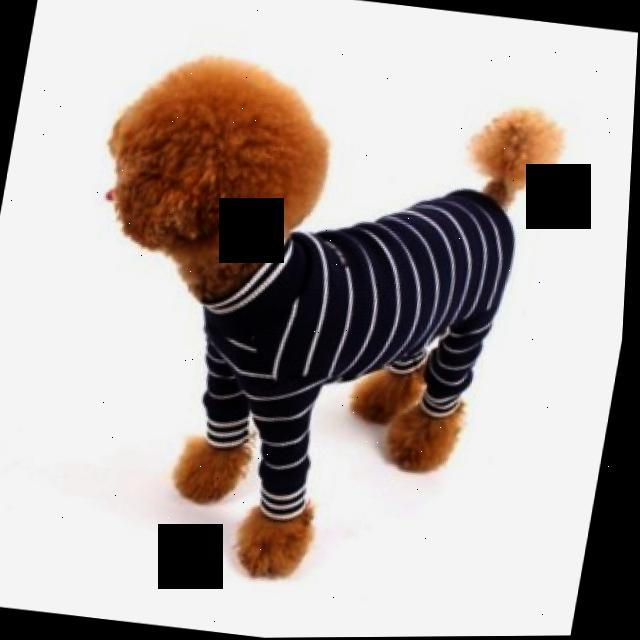cloth: (207, 190, 516, 519)
